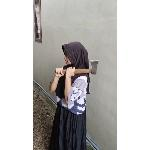Kapak: (55, 58, 101, 78)
